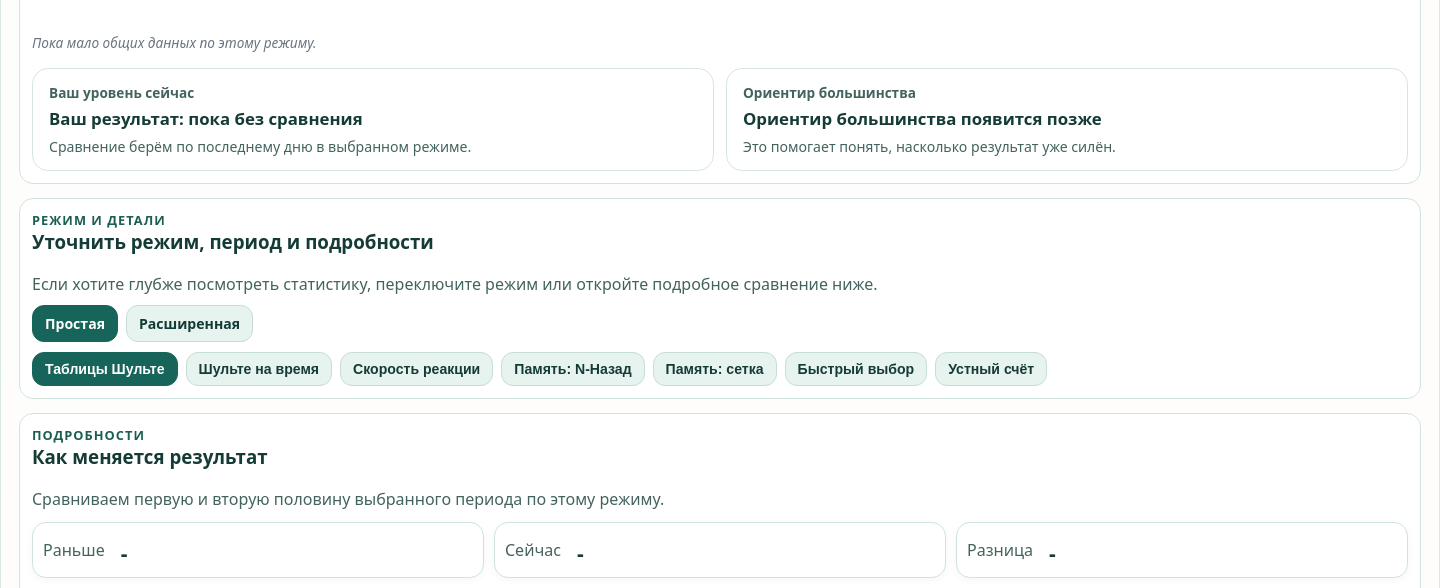
StatsPage sprint filters › renders sprint submode comparison with best mode and deltas
(page scrolled)
Click the button with test id "stats-mode-sprint". click: {"x": 991, "y": 369}
box: [935,352,1047,386]
(page scrolled)
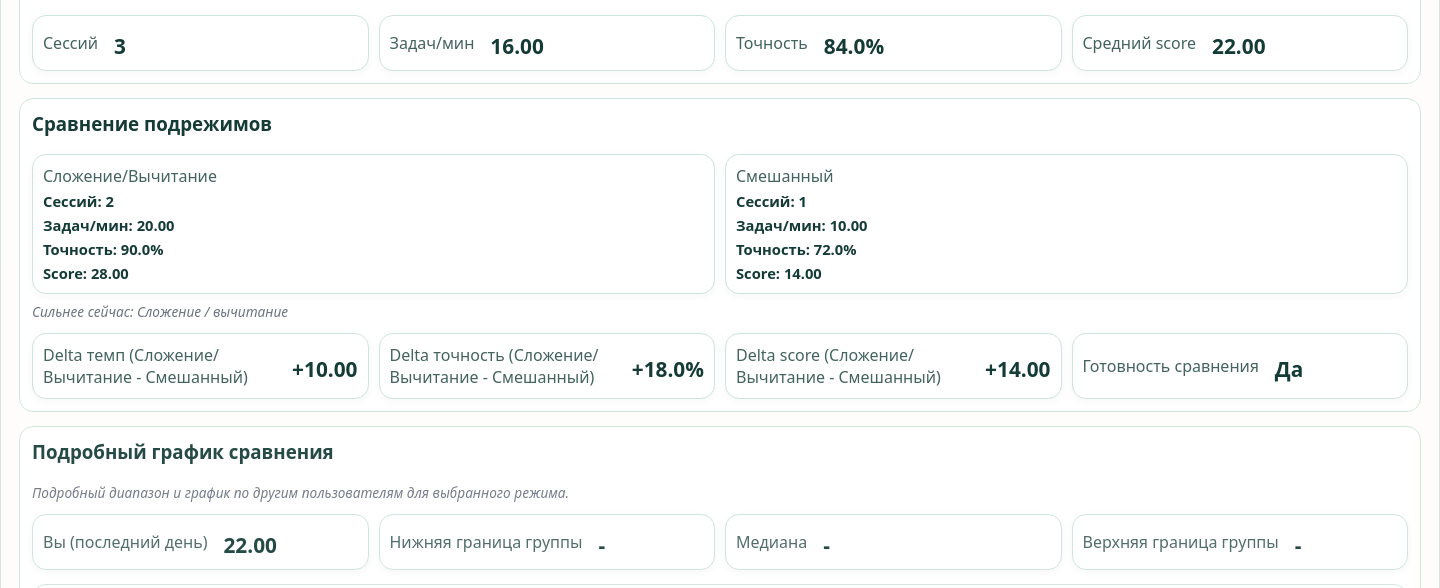
Now the element with test id "stats-sprint-card-add-sub" shows "Сессий: 2", box [32,154,715,294]
Now the element with test id "stats-sprint-card-mixed" shows "Сессий: 1", box [725,154,1408,294]
Now the text with test id "stats-sprint-best-mode" reads "Сильнее сейчас: Сложение / вычитание", box [32,302,288,321]
